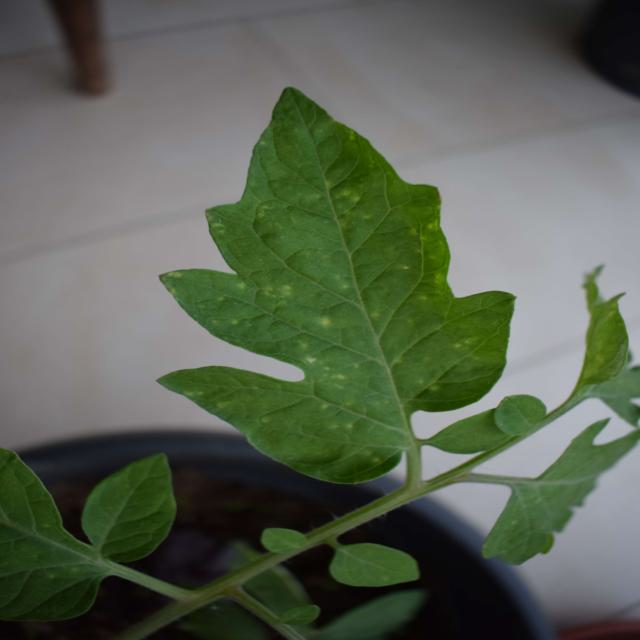Leaf_Mold: (160, 94, 518, 484)
